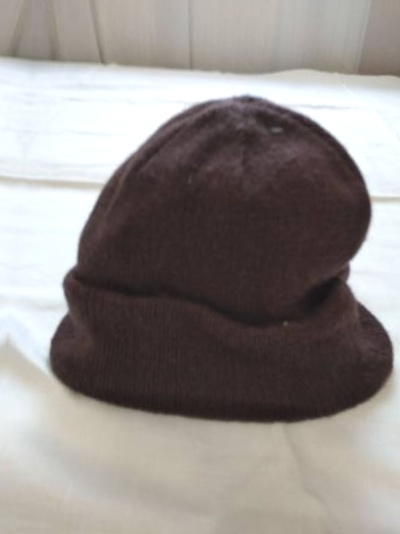Hat: (36, 83, 400, 447)
